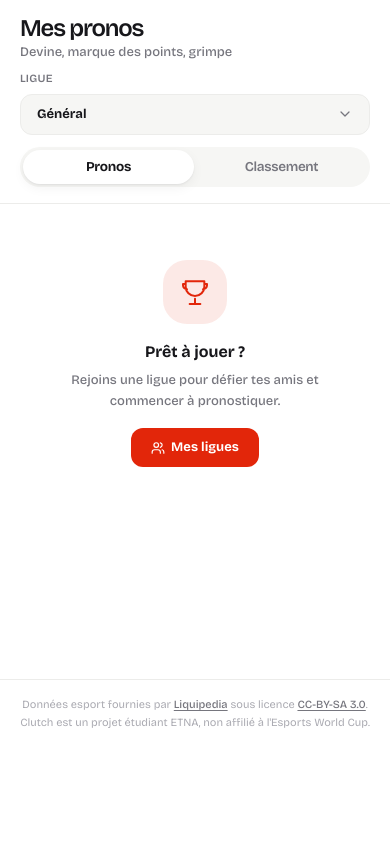
Test: PronoPage › switches to classement tab and shows global ranking row
Click the tab "Classement": (282, 167) [196,150,367,184]
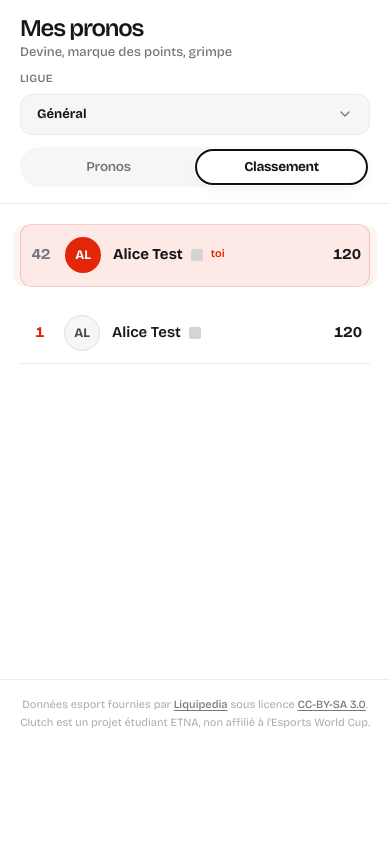
Check: the text "Alice Test" is shown, box [113,245,183,263]
Check: the text "120" next to "toi" is shown, box [333,245,361,263]
